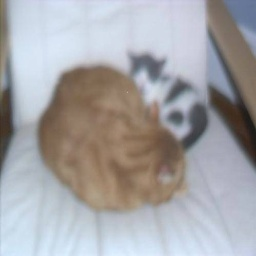cat: (125, 49, 212, 146)
